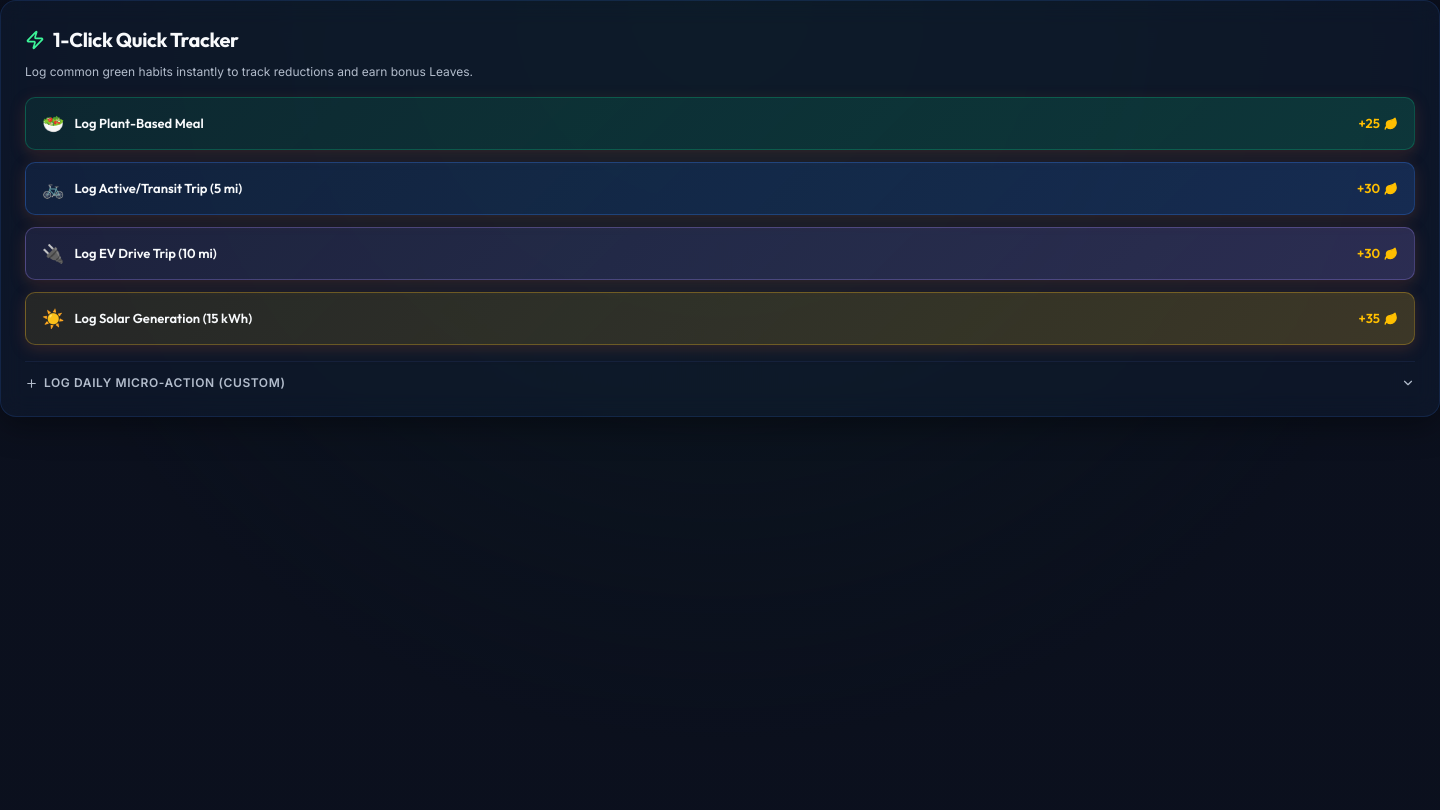
Test: QuickTracker component › custom form shows food fields when food category is selected
Click the button "Log Daily Micro-Action (Custom)".
click(165, 382)  # box [25,374,1415,392]
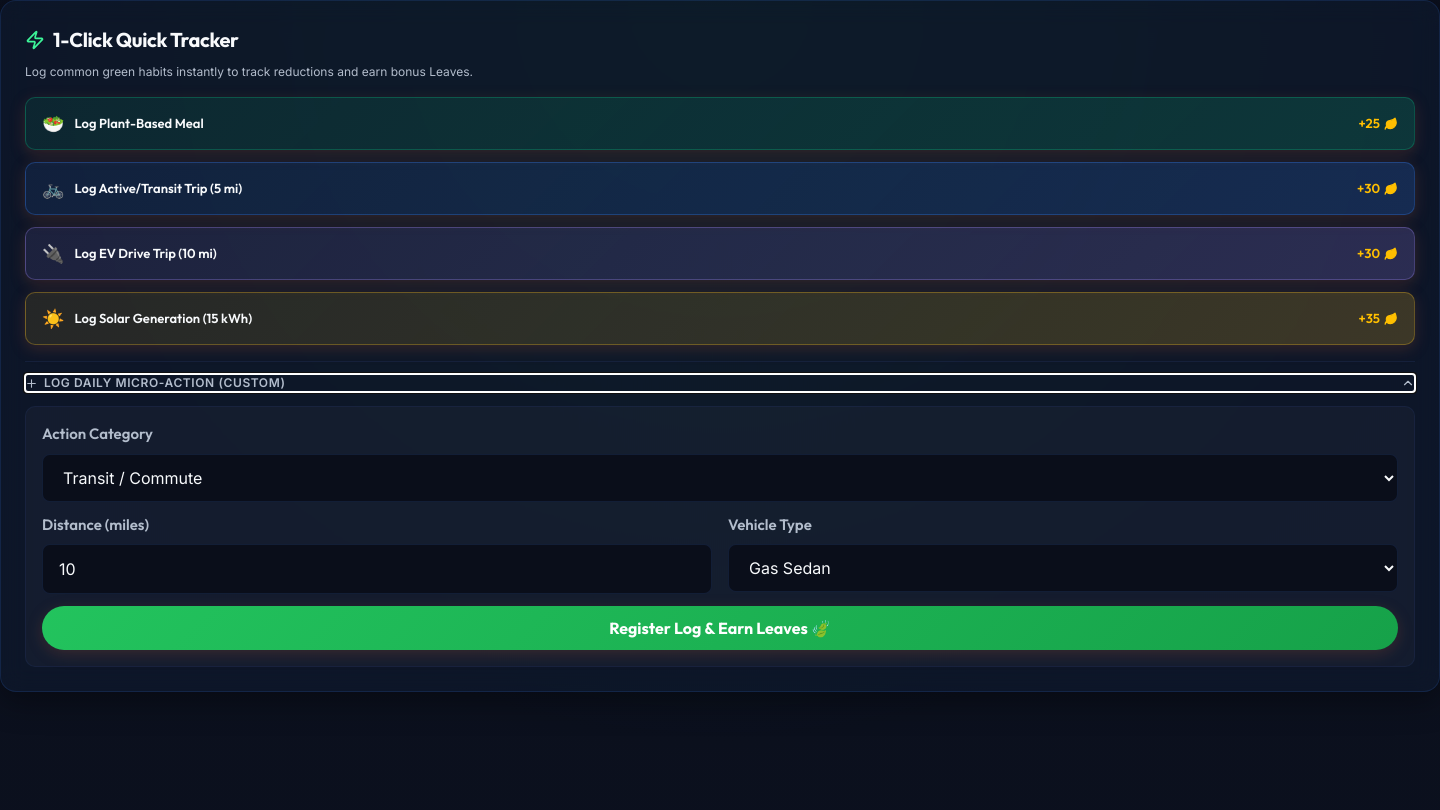
Select "Dietary Meals" in the dropdown labelled "Action Category" at coordinates (720, 478), box [42,454,1398,502]
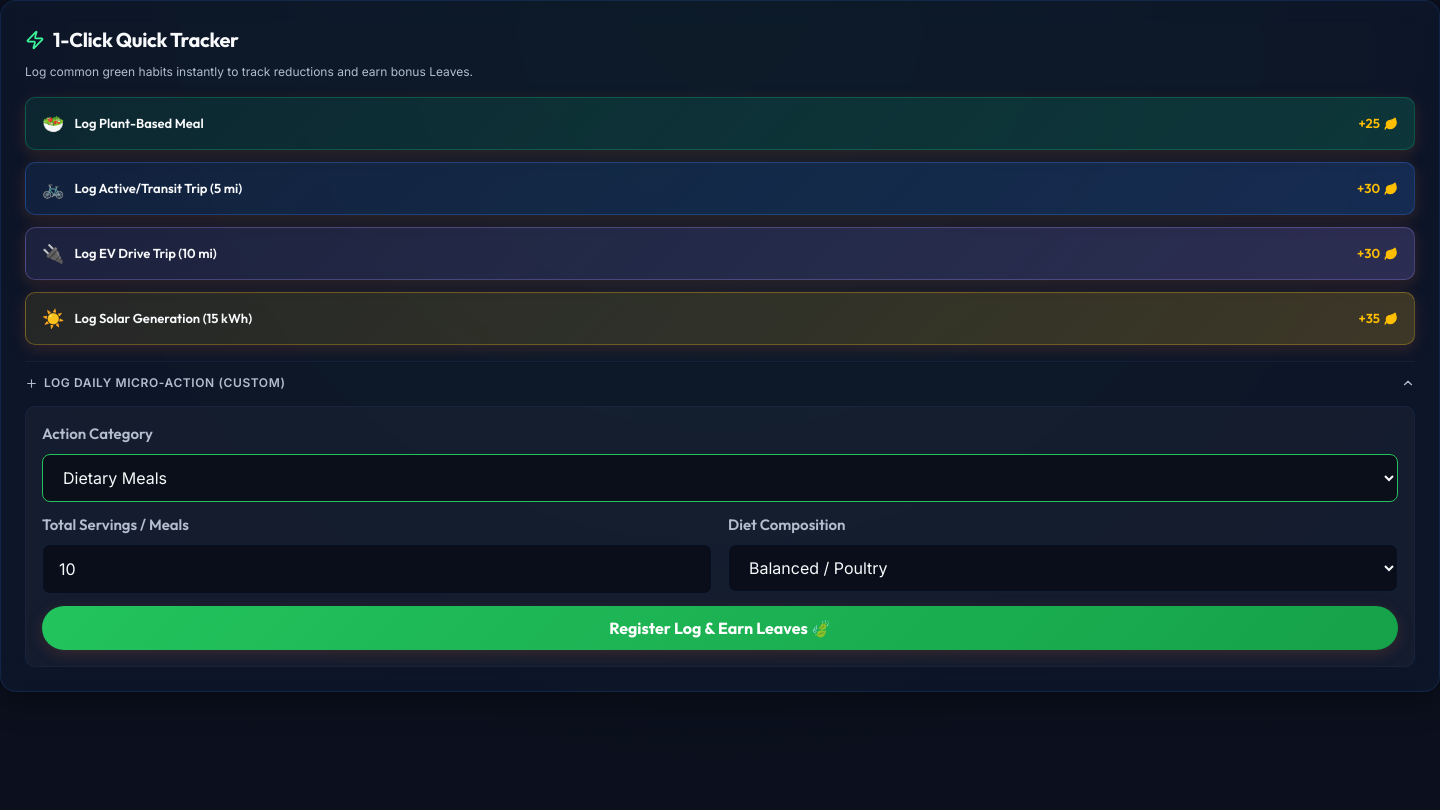
Check: the number field labelled "Total Servings / Meals" is shown, box [42,544,712,594]
Check: the dropdown labelled "Diet Composition" is shown, box [728,544,1398,592]
